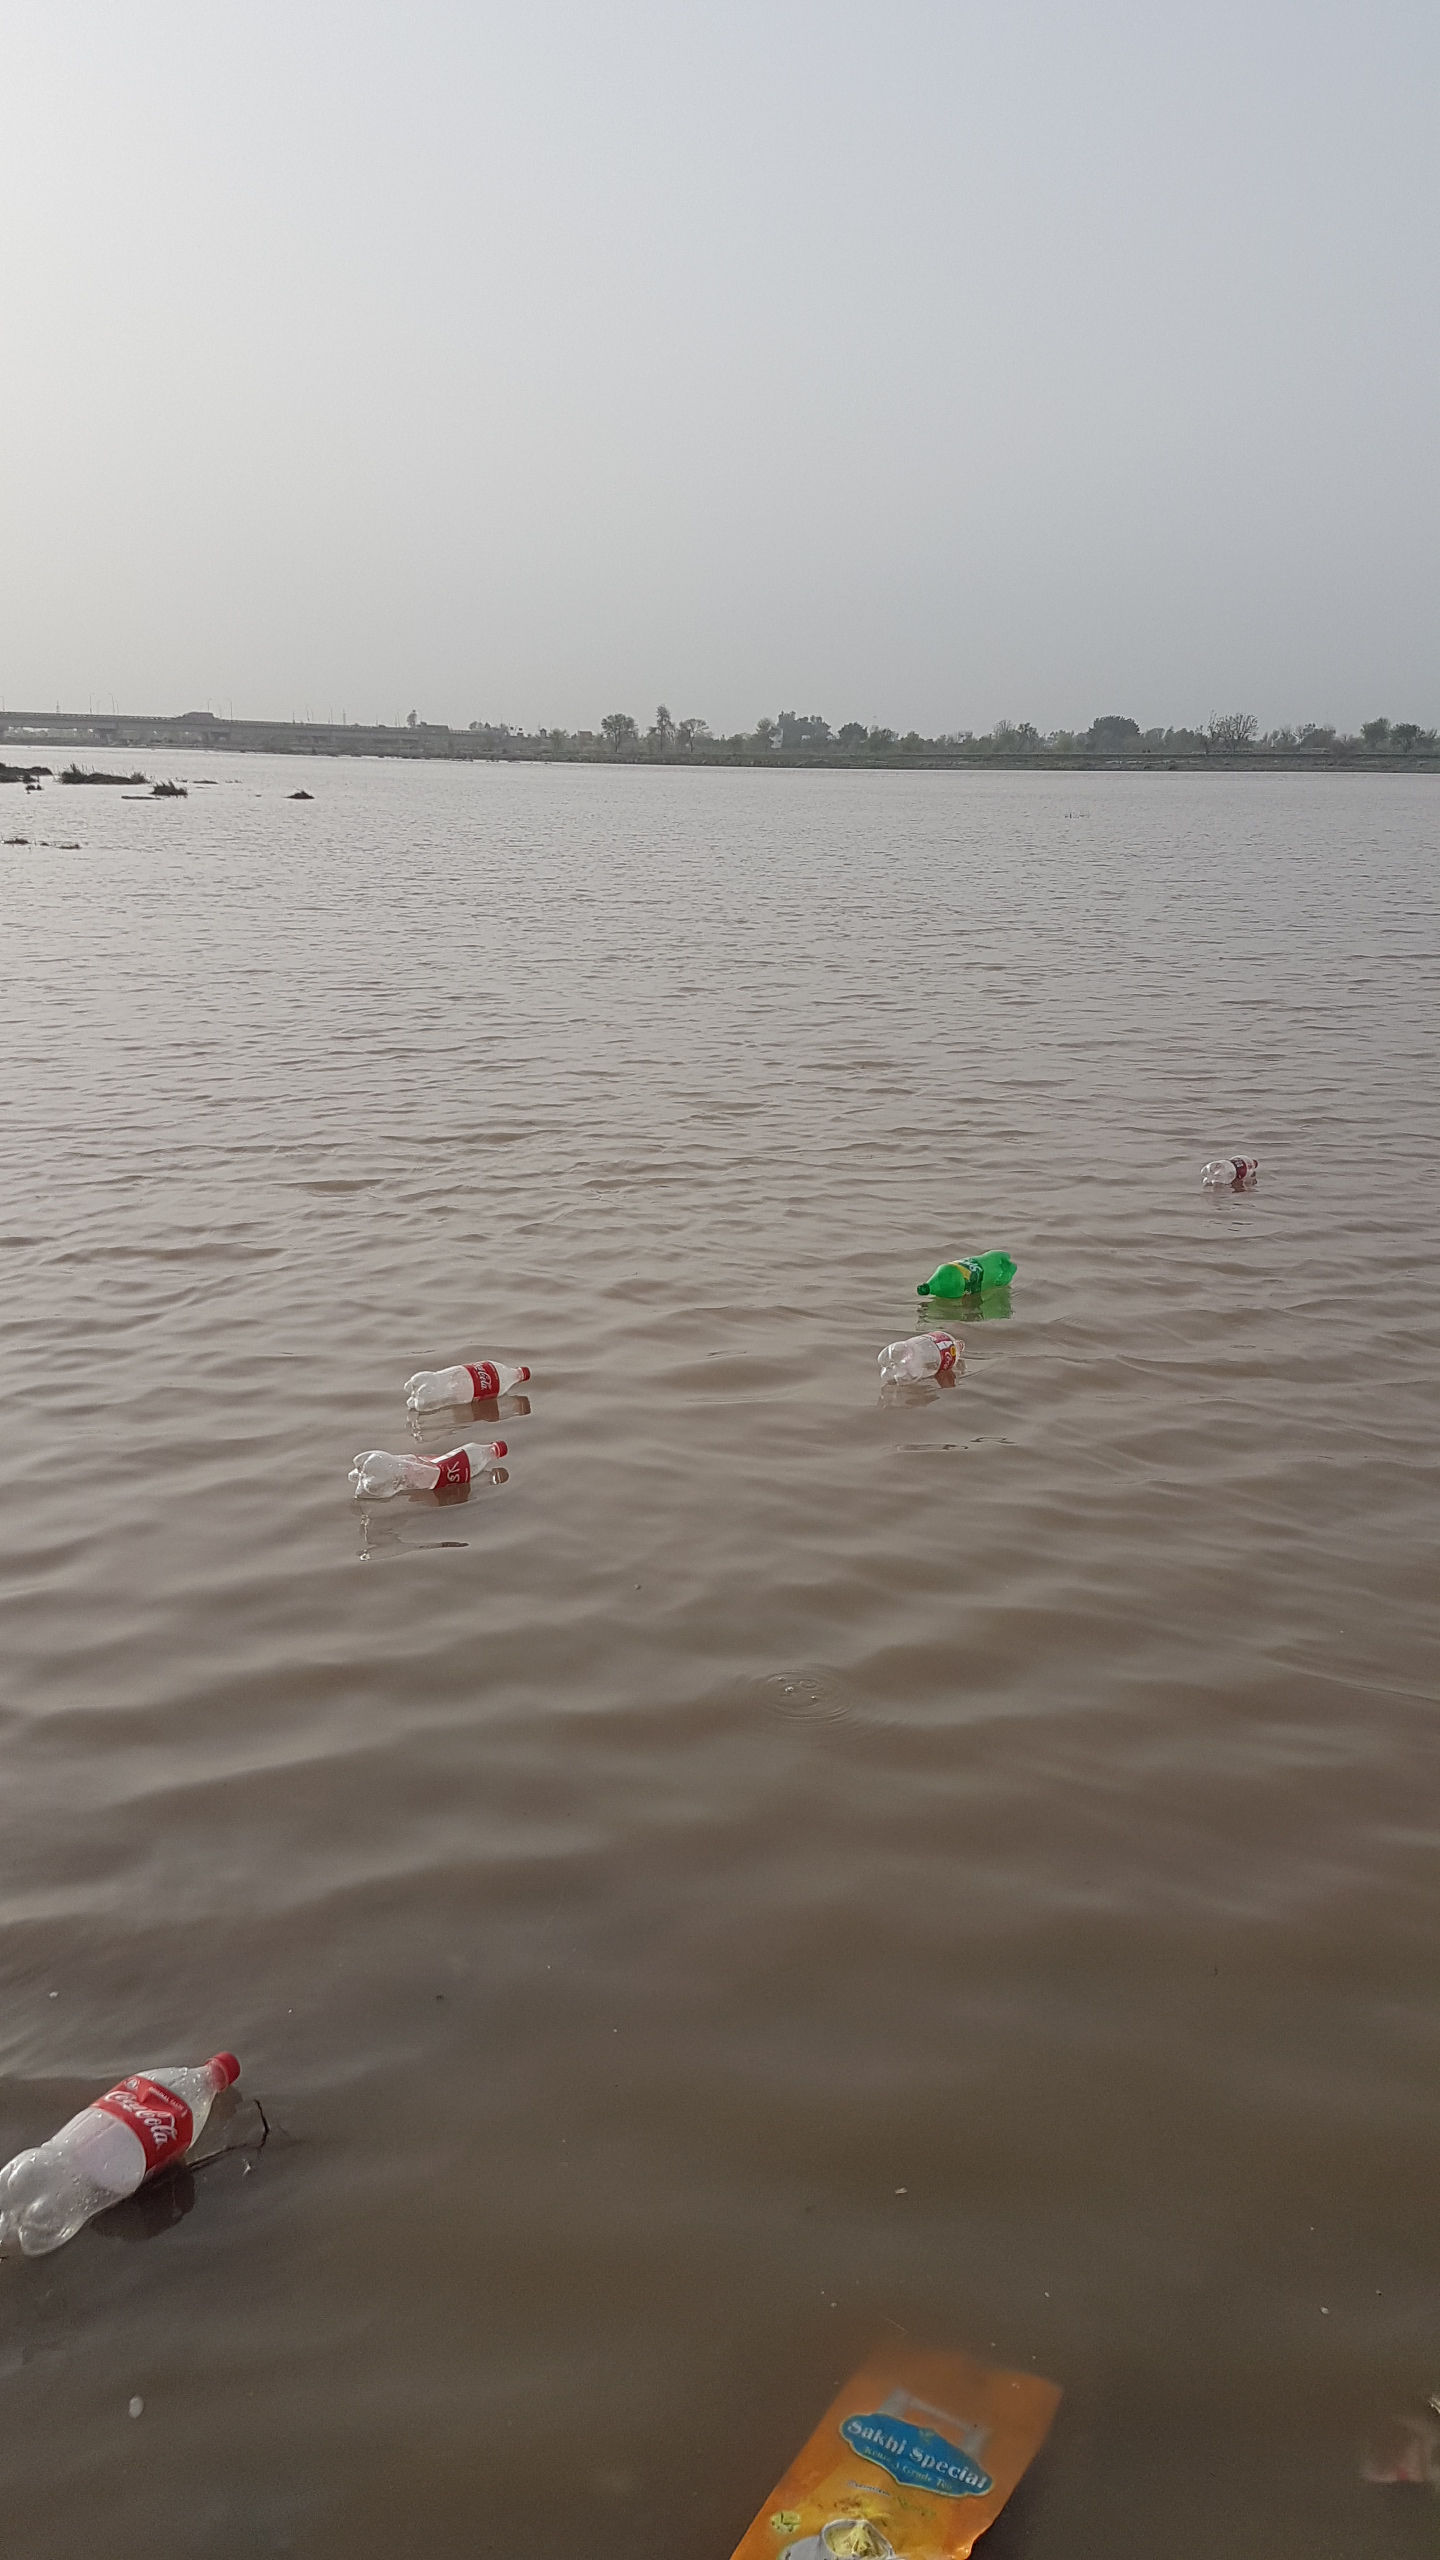Plastic Bottle: (2, 2050, 241, 2256), (346, 1442, 508, 1500), (403, 1357, 531, 1412), (918, 1248, 1016, 1298), (877, 1331, 965, 1384), (1203, 1155, 1259, 1187)
